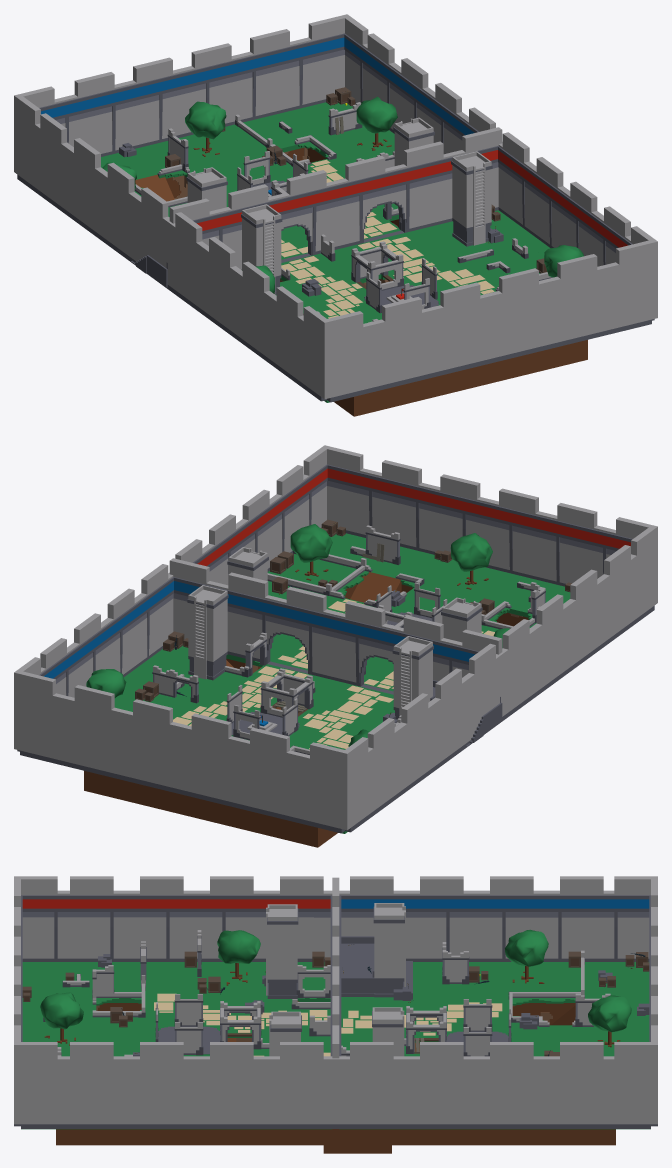
The model's file is map-underground-wars.glb.
The picture shows the model from 3 angles, top to bottom: view 1: azimuth 30°, elevation 25°; view 2: azimuth 150°, elevation 25°; view 3: azimuth 270°, elevation 25°; orthographic projection. The views are drawn at different scales.
Parts seen in each view (by area): view 1: SmoothBlockModel1426, SmoothBlockModel1427, SmoothBlockModel1333, SmoothBlockModel1425, SmoothBlockModel503, SmoothBlockModel1982, SmoothBlockModel1422, Dirt764, SmoothBlockModel1946, SmoothBlockModel505, Dirt766, SmoothBlockModel2210 (+45 smaller); view 2: SmoothBlockModel1333, SmoothBlockModel1427, SmoothBlockModel1426, SmoothBlockModel1425, SmoothBlockModel550, Dirt762, SmoothBlockModel1948, SmoothBlockModel537, SmoothBlockModel1422, SmoothBlockModel1980, Dirt766, SmoothBlockModel2120 (+46 smaller); view 3: SmoothBlockModel1425, SmoothBlockModel1427, Dirt766, SmoothBlockModel550, SmoothBlockModel503, SmoothBlockModel538, SmoothBlockModel5, SmoothBlockModel1330, SmoothBlockModel1952, SmoothBlockModel1977, SmoothBlockModel533, Dirt765 (+56 smaller).
Part boxes in pixels (x1,y1,x2,y2): SmoothBlockModel1426: (321, 255, 657, 399); SmoothBlockModel1427: (17, 112, 321, 396); SmoothBlockModel1333: (14, 32, 344, 173); SmoothBlockModel1425: (345, 32, 633, 266); SmoothBlockModel503: (101, 102, 352, 179); SmoothBlockModel1982: (41, 37, 344, 117); SmoothBlockModel1422: (191, 144, 498, 245); Dirt764: (369, 343, 573, 403); SmoothBlockModel1946: (197, 150, 497, 230); SmoothBlockModel505: (280, 232, 442, 289); Dirt766: (334, 352, 587, 416); SmoothBlockModel2210: (452, 156, 491, 228); SmoothBlockModel1333: (14, 686, 350, 830); SmoothBlockModel1427: (350, 543, 654, 827); SmoothBlockModel1426: (327, 463, 657, 604); SmoothBlockModel1425: (38, 463, 326, 697); SmoothBlockModel550: (329, 533, 570, 610); Dirt762: (84, 771, 326, 839); SmoothBlockModel1948: (327, 468, 630, 548); SmoothBlockModel537: (114, 653, 241, 716); SmoothBlockModel1422: (173, 575, 480, 676); SmoothBlockModel1980: (174, 581, 474, 661); Dirt766: (84, 707, 337, 847); SmoothBlockModel2120: (188, 589, 227, 661); SmoothBlockModel1425: (21, 1056, 650, 1124); SmoothBlockModel1427: (21, 890, 650, 958); Dirt766: (56, 1038, 615, 1145); SmoothBlockModel550: (21, 962, 90, 1129); SmoothBlockModel503: (584, 962, 650, 1129); SmoothBlockModel538: (175, 962, 292, 1008); SmoothBlockModel5: (22, 912, 649, 917); SmoothBlockModel1330: (21, 1124, 650, 1128); SmoothBlockModel1952: (22, 899, 330, 908); SmoothBlockModel1977: (341, 899, 649, 908); SmoothBlockModel533: (497, 962, 580, 1002); Dirt765: (56, 1129, 323, 1137).
Size of the model in its own units: 2.29 by 0.79 by 3.68.
20 materials, 3 textured.
